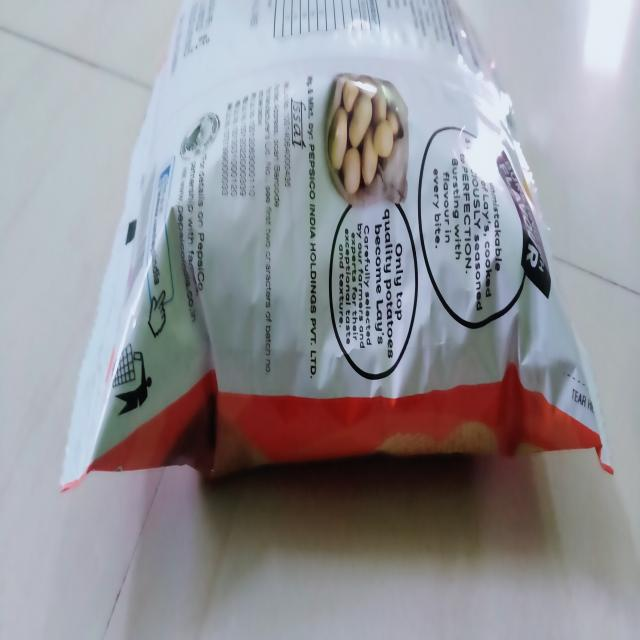lays: (60, 4, 615, 512)
